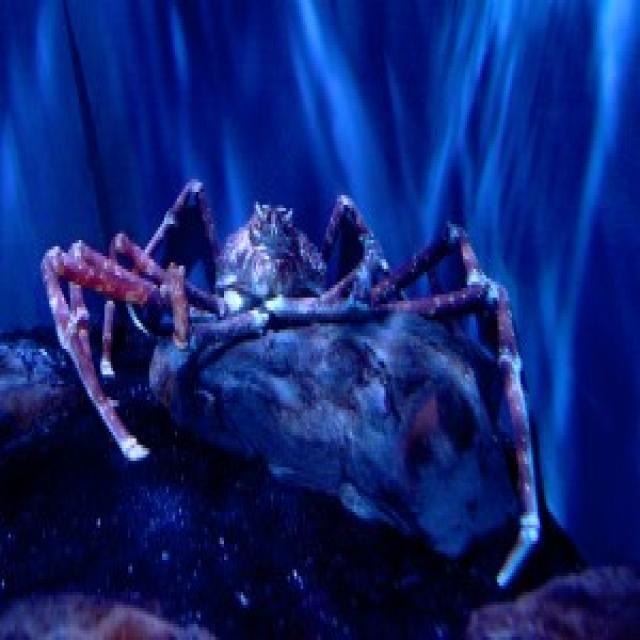lobsters: (18, 39, 640, 536)
